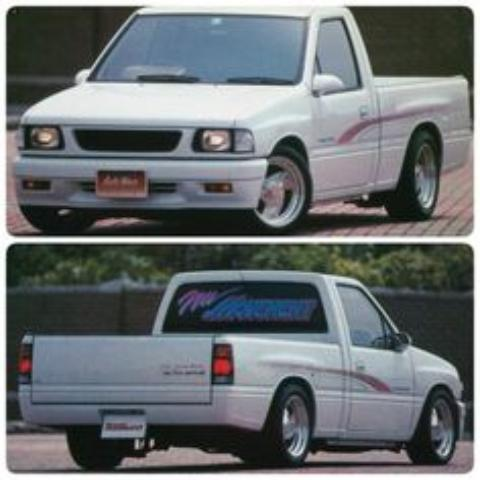pickup-truck: (12, 3, 474, 235)
